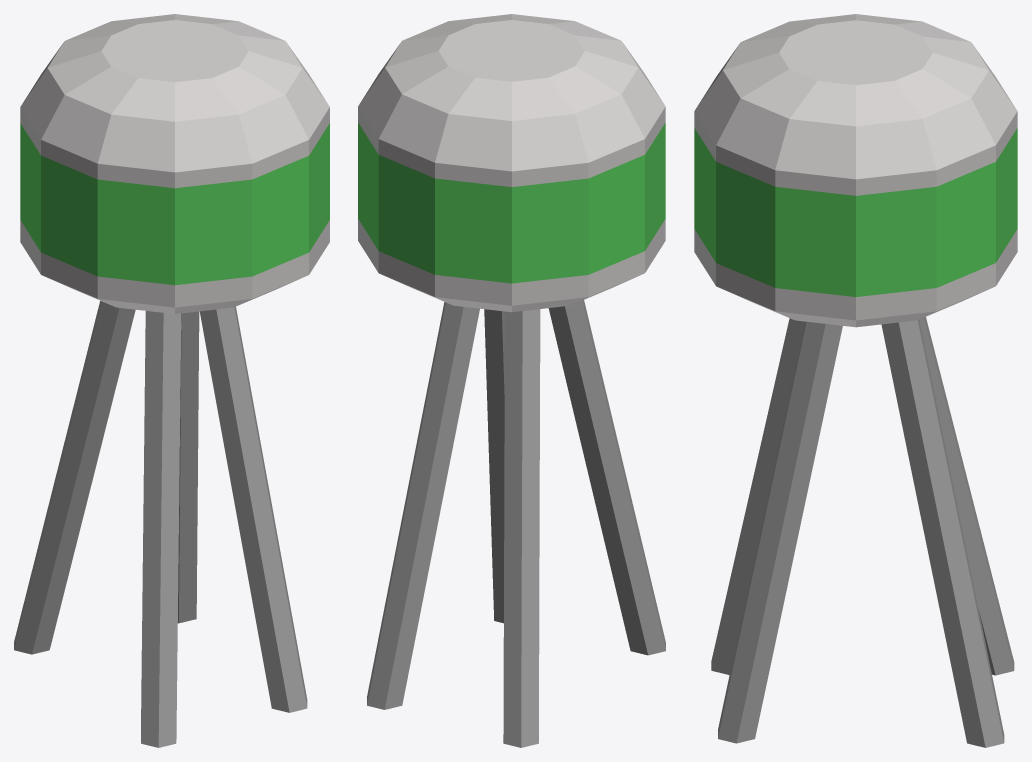
The model's file is Water Tower3.fbx.
3 renders of one model, left to right at view 1: azimuth 30°, elevation 25°; view 2: azimuth 150°, elevation 25°; view 3: azimuth 270°, elevation 25°, orthographic. The views are drawn at different scales.
Parts seen in each view (by area): view 1: pCylinder3; view 2: pCylinder3; view 3: pCylinder3.
Part boxes in pixels (x1,y1,x2,y2): pCylinder3: (14, 14, 329, 747); pCylinder3: (358, 14, 665, 747); pCylinder3: (694, 14, 1017, 747).
Size of the model in its own units: 7.68 by 17.11 by 7.68.
